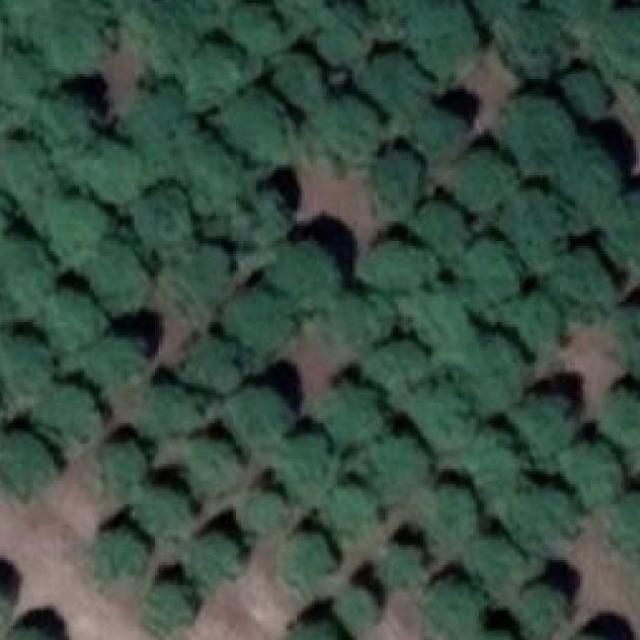Tree: (113, 0, 228, 75), (115, 91, 198, 176), (207, 91, 288, 175), (372, 0, 474, 66), (169, 132, 243, 222), (489, 97, 570, 175), (27, 0, 118, 68), (456, 332, 530, 415), (264, 234, 342, 312), (34, 284, 110, 358), (75, 138, 150, 212), (503, 188, 572, 268), (168, 44, 248, 112), (83, 231, 150, 312), (32, 200, 110, 266), (354, 231, 438, 292), (126, 186, 195, 260), (274, 424, 339, 502), (542, 244, 608, 319), (0, 239, 54, 330), (508, 481, 576, 553), (32, 386, 104, 454), (403, 282, 479, 346), (364, 325, 436, 392), (495, 15, 577, 73), (324, 372, 388, 446), (0, 130, 59, 210), (555, 140, 616, 217), (311, 97, 380, 165), (412, 381, 474, 456), (498, 284, 565, 352), (450, 142, 514, 212), (224, 386, 288, 456), (168, 244, 233, 311), (30, 94, 94, 162), (356, 56, 428, 115), (226, 292, 292, 356), (0, 330, 49, 416), (462, 239, 519, 312), (561, 438, 619, 506), (508, 394, 576, 452), (79, 332, 147, 390), (0, 51, 44, 138), (595, 190, 640, 274), (425, 573, 486, 633), (368, 437, 428, 498), (412, 193, 466, 260), (179, 342, 246, 396), (91, 525, 152, 584), (329, 280, 393, 336), (0, 432, 59, 492), (220, 196, 284, 249), (226, 5, 284, 63), (468, 533, 530, 587), (597, 8, 640, 85), (183, 532, 241, 589), (312, 8, 373, 62), (465, 434, 519, 492), (606, 388, 640, 479), (421, 488, 479, 541), (367, 147, 420, 205), (276, 49, 327, 107), (276, 535, 338, 582), (179, 442, 236, 492), (404, 114, 464, 161), (321, 487, 373, 540), (141, 385, 198, 432), (144, 585, 195, 636), (0, 0, 44, 59), (135, 484, 187, 532), (521, 580, 568, 631), (607, 496, 640, 567), (97, 439, 145, 487), (376, 545, 423, 590), (334, 588, 378, 633), (541, 0, 609, 29), (562, 74, 606, 118), (615, 298, 640, 369), (240, 494, 289, 530), (277, 0, 322, 38), (287, 617, 346, 640), (476, 0, 523, 23), (459, 626, 517, 640), (8, 626, 56, 640), (0, 192, 13, 238), (567, 631, 611, 640), (0, 580, 8, 617)
